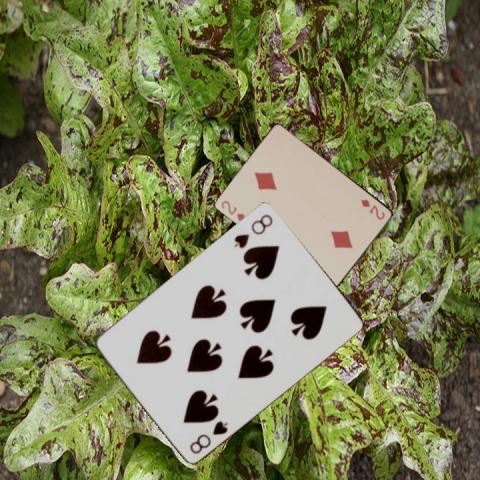2d: (218, 197, 247, 223), (358, 196, 387, 221)
8s: (230, 210, 274, 249), (187, 418, 229, 456)
